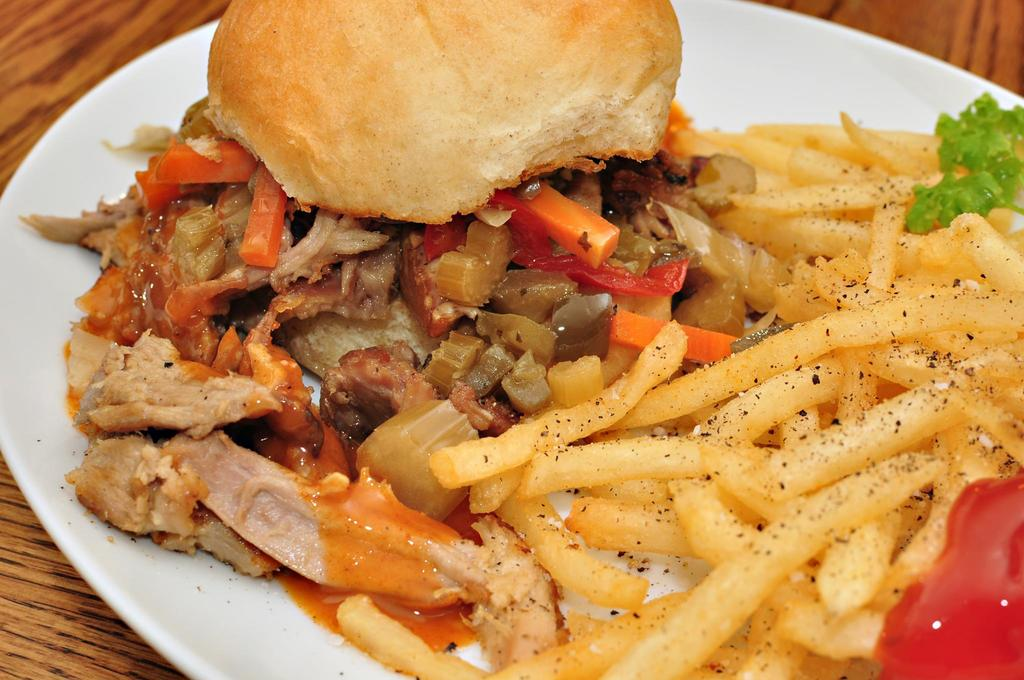French fries: (327, 97, 1023, 679)
